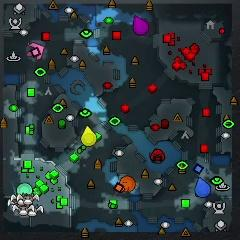p1: (195, 178, 211, 199)
p2: (16, 182, 33, 197)
p3: (132, 16, 149, 35)
p4: (80, 124, 97, 146)
p5: (118, 175, 135, 192)
x1: (28, 42, 44, 59)
